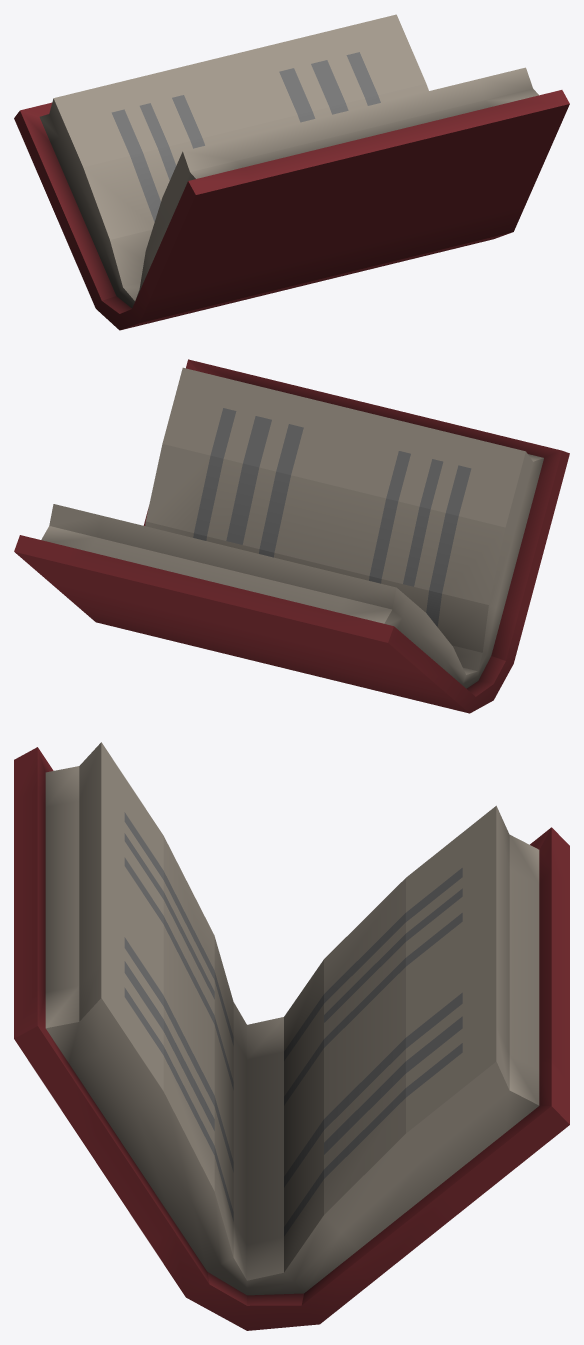
Rendered from pq_livre_d2.glb.
3 views of the same model, one above another, from view 1: azimuth 30°, elevation 25°; view 2: azimuth 150°, elevation 25°; view 3: azimuth 270°, elevation 25° (orthographic). The views are drawn at different scales.
Parts seen in each view (by area): view 1: Book3; view 2: Book3; view 3: Book3.
Part boxes in pixels (x1=…): Book3: x1=14, y1=14, x2=569, y2=330; Book3: x1=14, y1=359, x2=569, y2=713; Book3: x1=14, y1=742, x2=569, y2=1330.
Bounding box in the file's own units: 0.2388 × 0.1284 × 0.2012.
